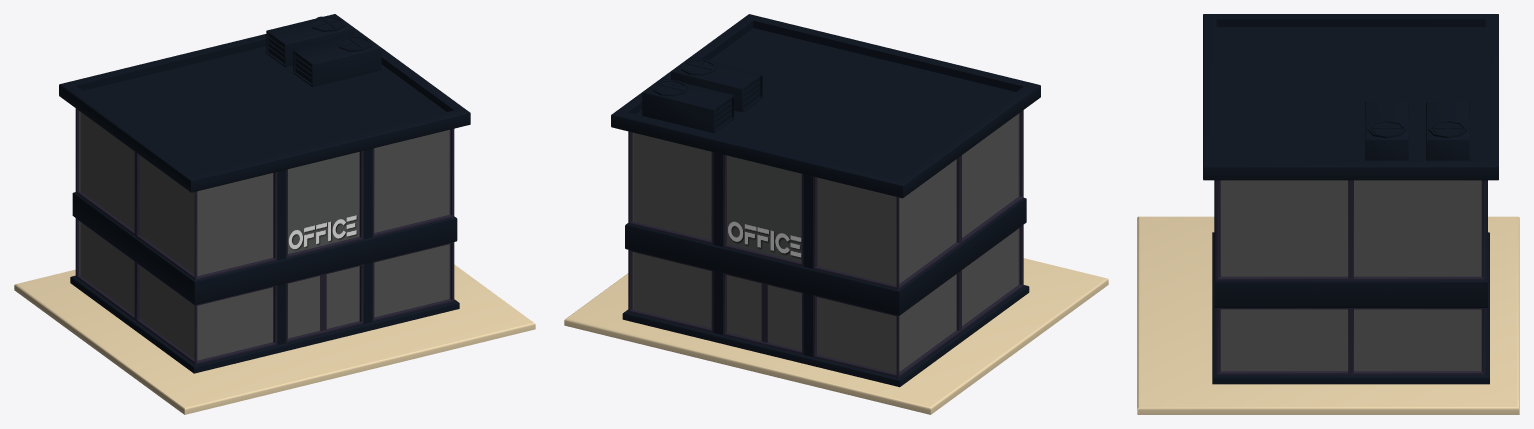
The model's file is commercial-building-office.fbx.
3 views of the same model, side by side, from view 1: azimuth 30°, elevation 25°; view 2: azimuth 150°, elevation 25°; view 3: azimuth 270°, elevation 25° (orthographic). The views are drawn at different scales.
Parts seen in each view (by area): view 1: commercial-building-office; view 2: commercial-building-office; view 3: commercial-building-office.
Boxes of the visible parts, box(x1,y1,x2,y2) form: commercial-building-office: box(14, 14, 535, 414); commercial-building-office: box(564, 14, 1108, 414); commercial-building-office: box(1137, 14, 1519, 414).
Bounding box in the file's own units: 14.33 × 8.64 × 12.05.
